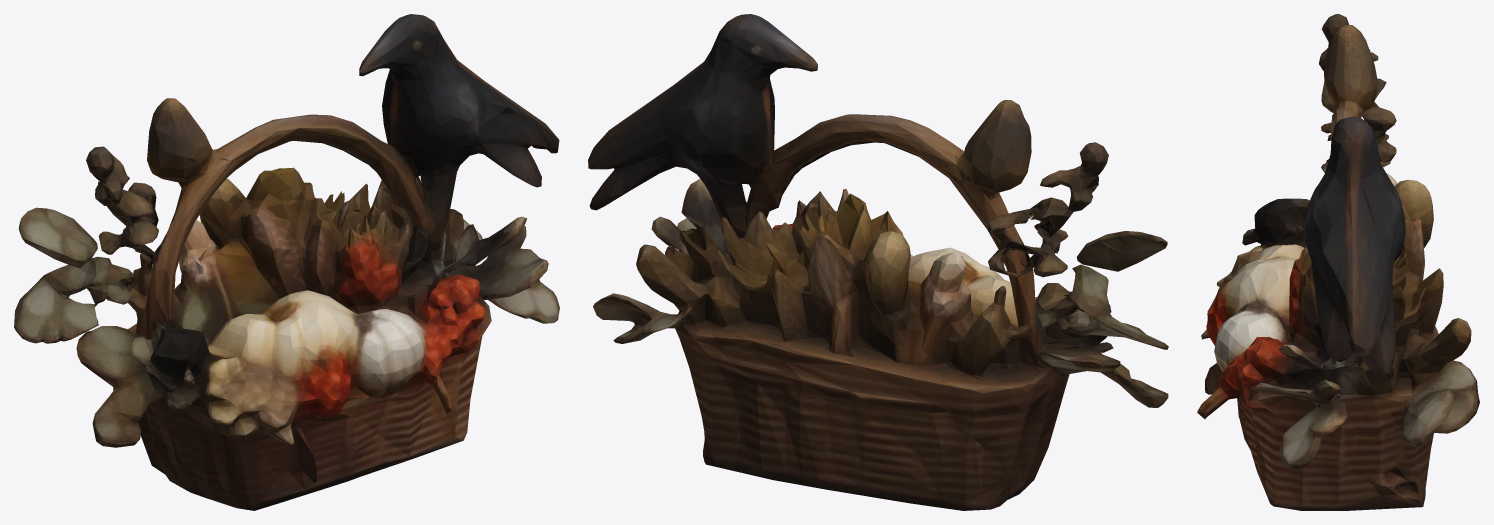
Rendered from basket_harvest_crow.glb.
3 renders of one model, left to right at view 1: azimuth 30°, elevation 25°; view 2: azimuth 150°, elevation 25°; view 3: azimuth 270°, elevation 25°, orthographic. The views are drawn at different scales.
Parts seen in each view (by area): view 1: geometry_0; view 2: geometry_0; view 3: geometry_0.
Boxes of the visible parts, x1,y1,x2,y2 form: geometry_0: (14,14,559,510); geometry_0: (588,14,1168,510); geometry_0: (1197,14,1479,510).
Bounding box in the file's own units: 0.9996 × 0.7058 × 0.4674.
Materials: 1 (1 with a texture image).
